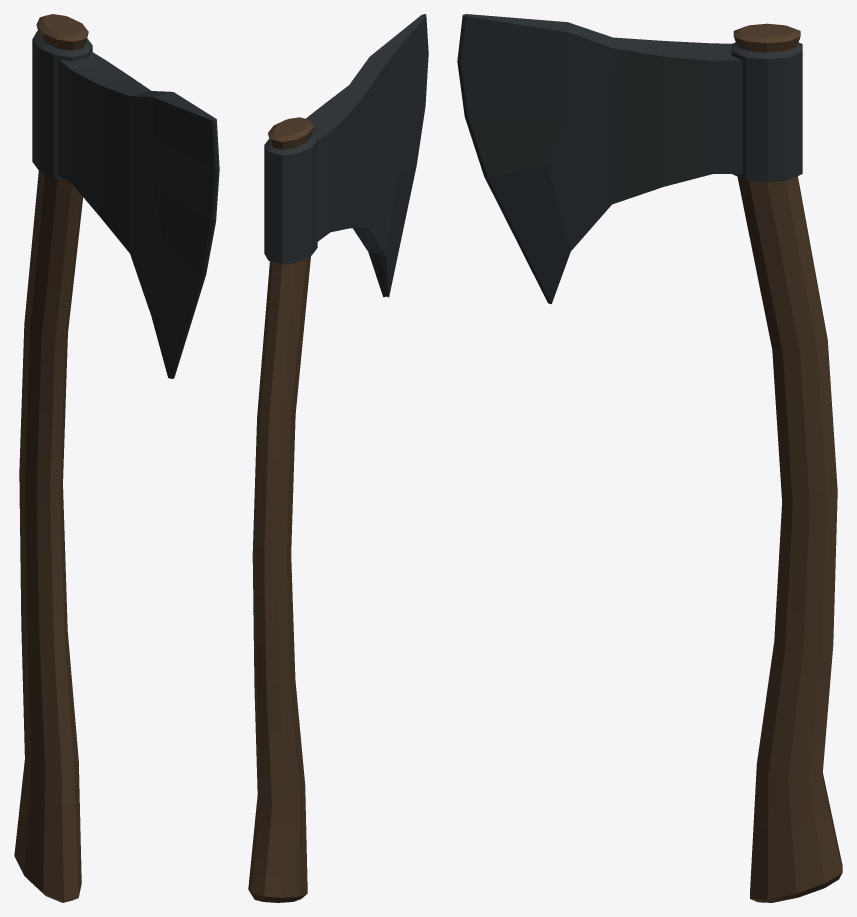
File: Geo_Axe.fbx
3 renders of one model, left to right at view 1: azimuth 30°, elevation 25°; view 2: azimuth 150°, elevation 25°; view 3: azimuth 270°, elevation 25°, orthographic. The views are drawn at different scales.
Parts seen in each view (by area): view 1: pCylinder18; view 2: pCylinder18; view 3: pCylinder18.
Boxes of the visible parts, <box> form: pCylinder18: <box>14,14,219,902</box>; pCylinder18: <box>248,14,428,902</box>; pCylinder18: <box>457,14,842,902</box>.
Bounding box in the file's own units: 4.17 × 74.22 × 29.28.
